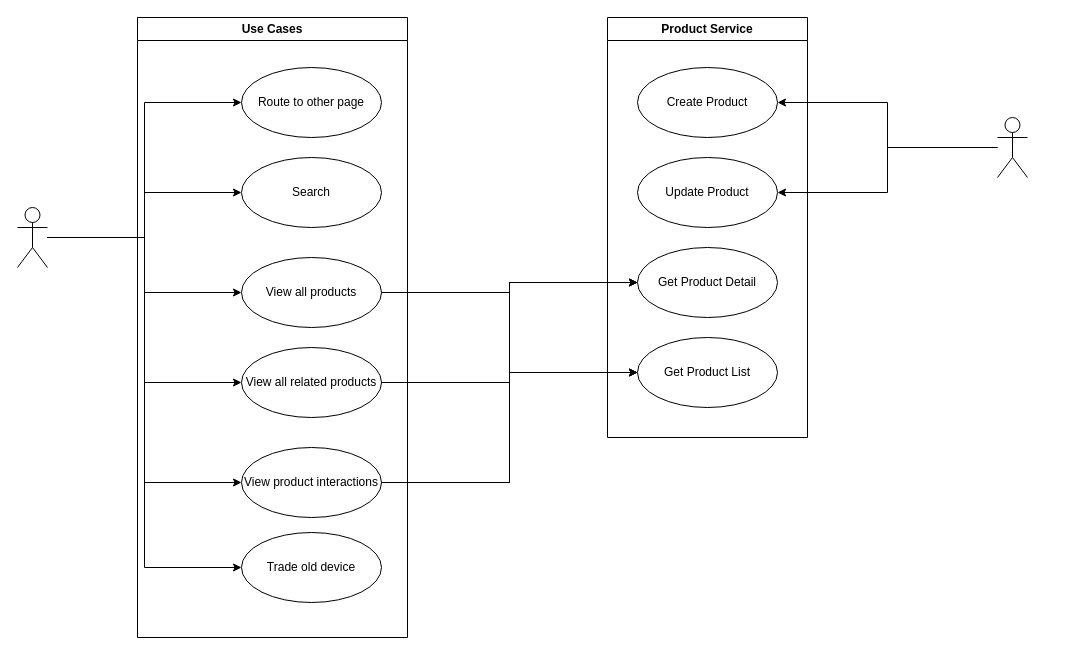
Some shapes in this 1065 by 655 pixel diagram are drawn without their labels. The centre of each missing label's shape, as x and y in pixels:
Administrator: the point at 1012,147
User: the point at 32,237
